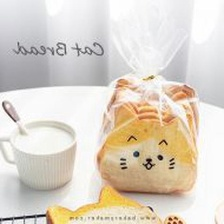glass: (0, 115, 82, 194)
snack: (84, 0, 209, 201)
